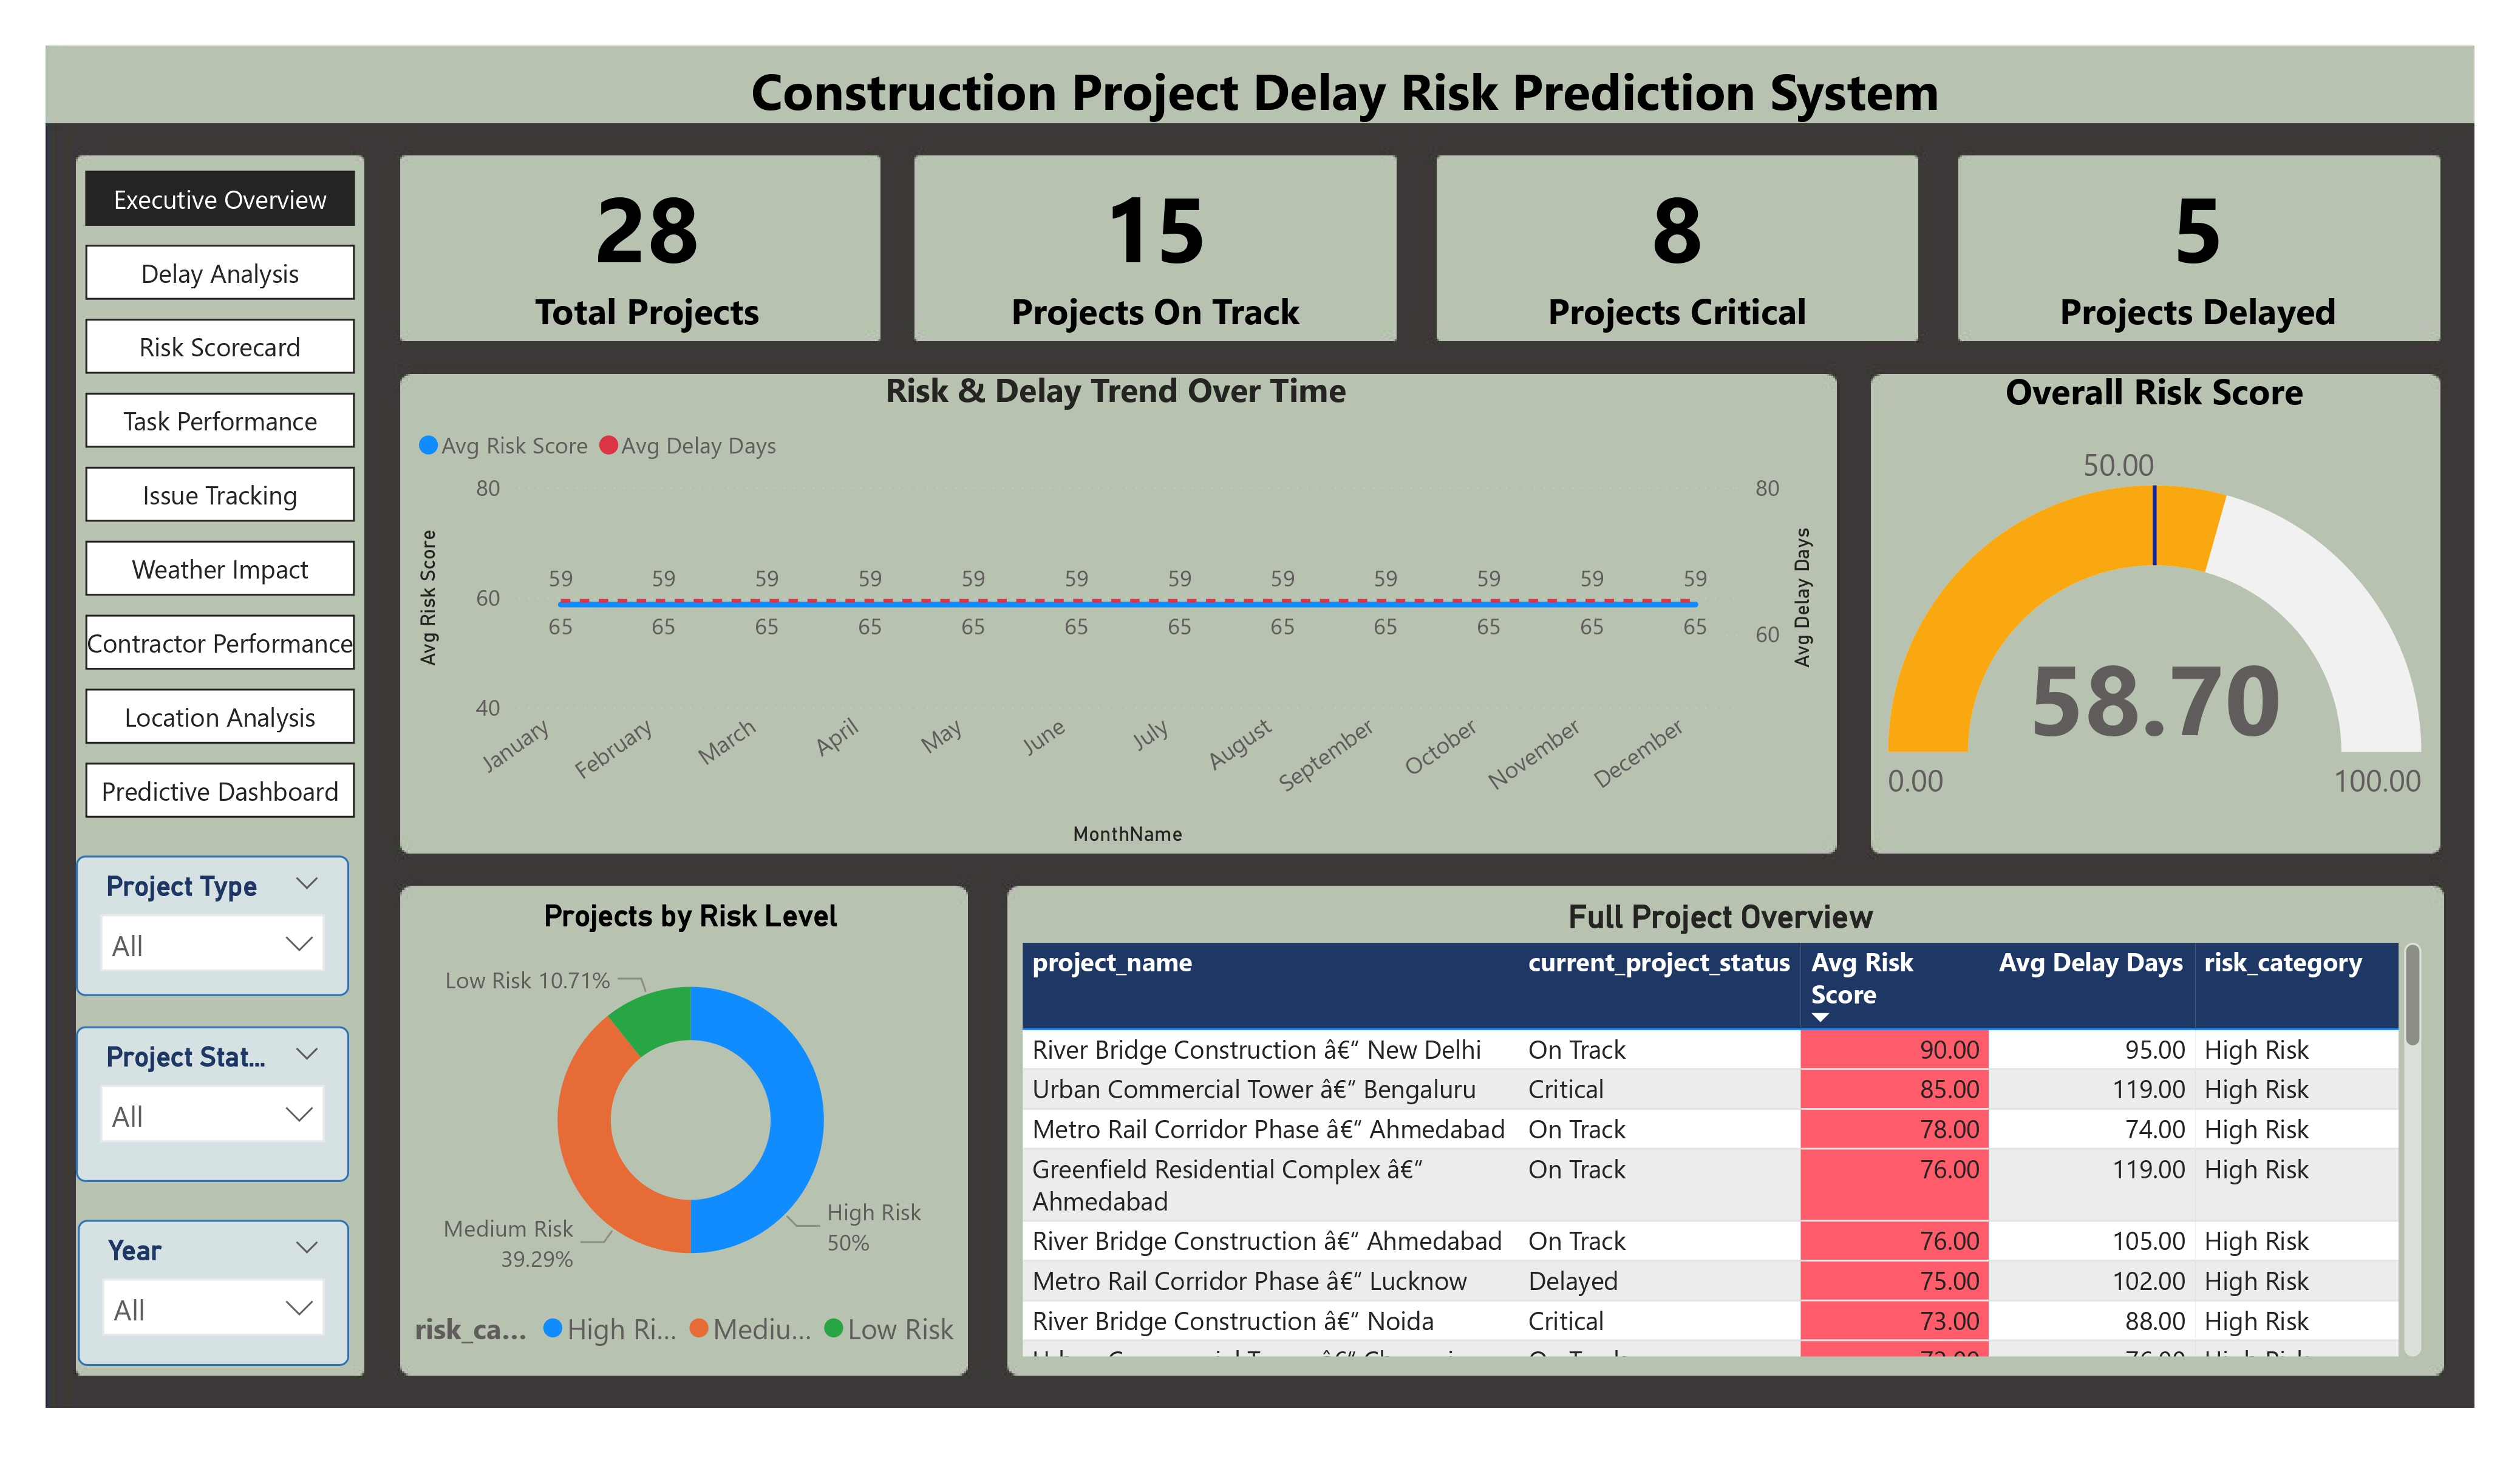

The dashboard page shown, as its layout file describes it:
{"tool":"powerbi","page":{"name":"Executive Overview","canvas":[1280,720],"ordinal":0},"visuals":[{"type":"card","fields":{"Values":["**Measures**.Total Projects"]},"box":[191.4,55.7,251.4,101.4],"z":0},{"type":"card","fields":{"Values":["**Measures**.Projects On Track"]},"box":[457.1,55.7,255.7,101.4],"z":1000},{"type":"card","fields":{"Values":["**Measures**.Projects Critical"]},"box":[730,55.7,260,101.4],"z":2000},{"type":"card","fields":{"Values":["**Measures**.Projects Delayed"]},"box":[1011.1,55.6,246.7,101.1],"z":3000},{"type":"gauge","title":"Overall Risk Score","fields":{"Y":["**Measures**.Avg Risk Score"]},"box":[965.7,168.6,291.4,241.4],"z":4000},{"type":"donutChart","title":"Projects by Risk Level","fields":{"Category":["factprojectmetrics.risk_category"],"Y":["**Measures**.Total Projects"]},"box":[191.4,448.6,297.1,247.1],"z":5000},{"type":"tableEx","title":"Full Project Overview","fields":{"Values":["factprojectmetrics.project_name","factprojectmetrics.current_project_status","**Measures**.Avg Risk Score","**Measures**.Avg Delay Days","factprojectmetrics.risk_category"]},"box":[508.6,448.6,748.6,247.1],"z":6000},{"type":"slicer","fields":{"Values":["factprojectmetrics.project_type"]},"box":[15.7,427.1,144.3,74.3],"z":7000},{"type":"slicer","fields":{"Values":["factprojectmetrics.current_project_status"]},"box":[15.7,517.1,144.3,81.4],"z":8000},{"type":"slicer","fields":{"Values":["DimDate.Year"]},"box":[17.1,618.6,142.9,77.1],"z":9000},{"type":"lineChart","title":"Risk & Delay Trend Over Time","fields":{"Category":["DimDate.MonthName"],"Y2":["**Measures**.Avg Delay Days"],"Y":["**Measures**.Avg Risk Score"]},"box":[191.4,168.6,745.7,258.6],"z":10000},{"type":"textbox","box":[366.7,0,656,56],"z":11000},{"type":"pageNavigator","box":[21.2,66.2,141.2,343.8],"z":12000}]}

Visuals, with their boxes on the page's 1280x720 design canvas (x1, y1, x2, y2). These are canvas units, not pixel positions in the 2520x1457 screenshot, which may show the page scaled, cropped or inside an application window:
card - **Measures**.Total Projects: [191, 56, 443, 157]
card - **Measures**.Projects On Track: [457, 56, 713, 157]
card - **Measures**.Projects Critical: [730, 56, 990, 157]
card - **Measures**.Projects Delayed: [1011, 56, 1258, 157]
"Overall Risk Score" gauge: [966, 169, 1257, 410]
"Projects by Risk Level" donutChart: [191, 449, 488, 696]
"Full Project Overview" tableEx: [509, 449, 1257, 696]
slicer - factprojectmetrics.project_type: [16, 427, 160, 501]
slicer - factprojectmetrics.current_project_status: [16, 517, 160, 598]
slicer - DimDate.Year: [17, 619, 160, 696]
"Risk & Delay Trend Over Time" lineChart: [191, 169, 937, 427]
textbox: [367, 0, 1023, 56]
pageNavigator: [21, 66, 162, 410]
